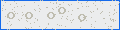o: (78, 14, 86, 22), (58, 7, 66, 14), (47, 12, 55, 19), (25, 12, 33, 19), (7, 12, 14, 19)
